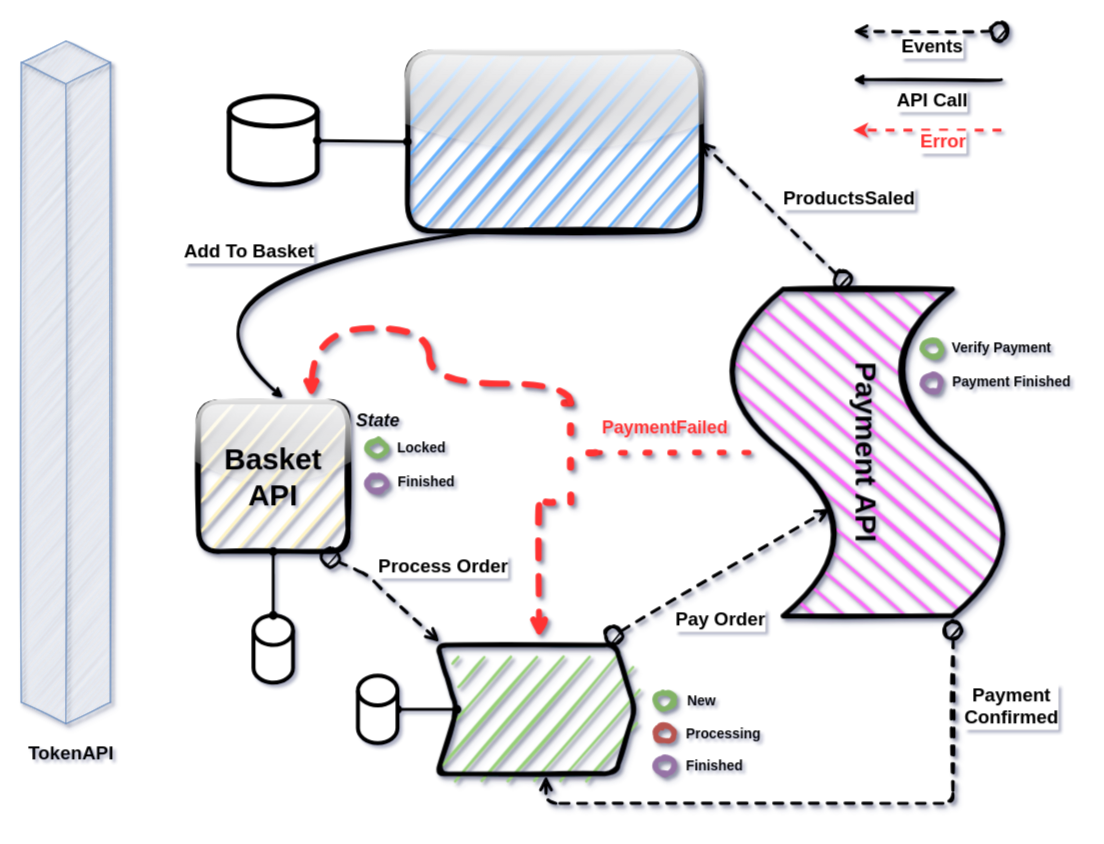
This 1104x844 diagram has some shape labels left out. Each missing label, with the centre of its shape:
"Order API" belongs at pixel 536 710.
"Store API" belongs at pixel 554 142.
